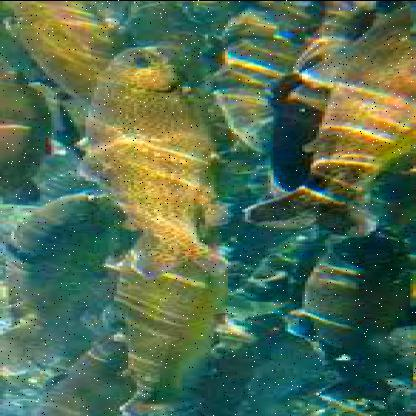fish: (80, 46, 233, 276)
